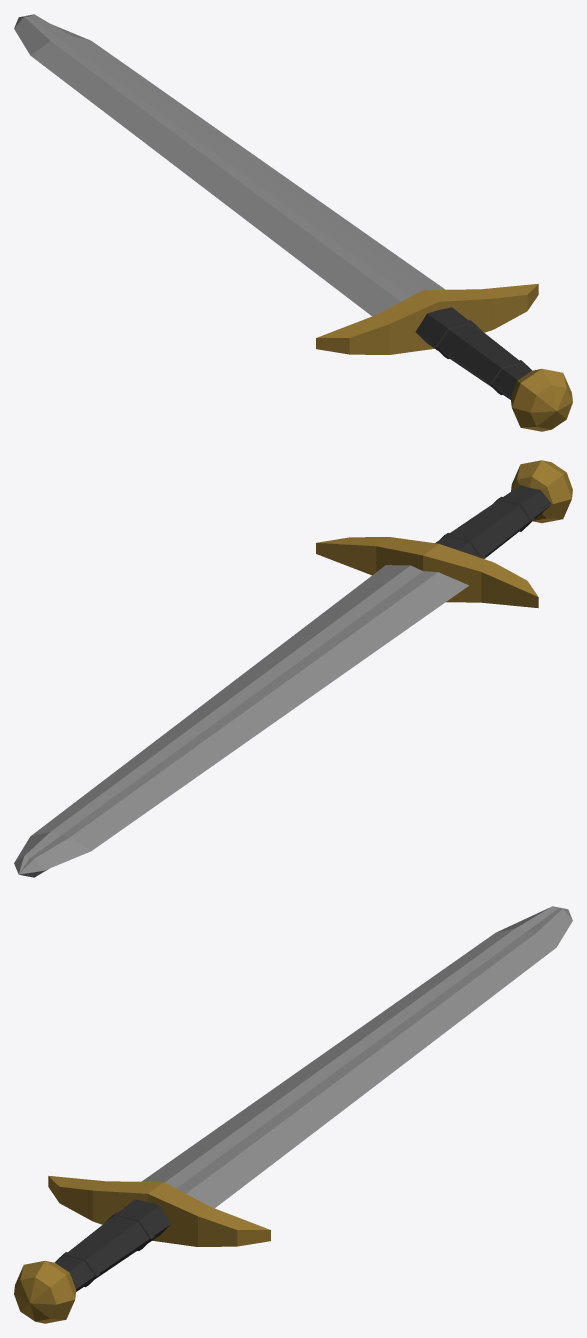
Rendered from sword_low_poly.fbx.
3 renders of one model, top to bottom at view 1: azimuth 30°, elevation 25°; view 2: azimuth 150°, elevation 25°; view 3: azimuth 330°, elevation 25°, orthographic.
Visible parts, largest first — view 1: sword; view 2: sword; view 3: sword.
Boxes of the visible parts, x1,y1,x2,y2 form: sword: [14, 14, 572, 431]; sword: [14, 460, 572, 877]; sword: [14, 906, 572, 1323].
Size of the model in its own units: 26.57 by 7.19 by 111.
